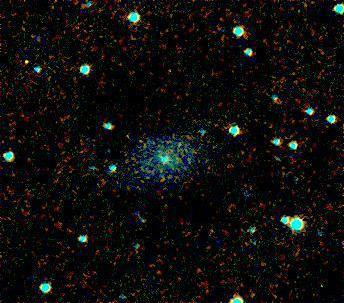star: (13, 45, 43, 75)
